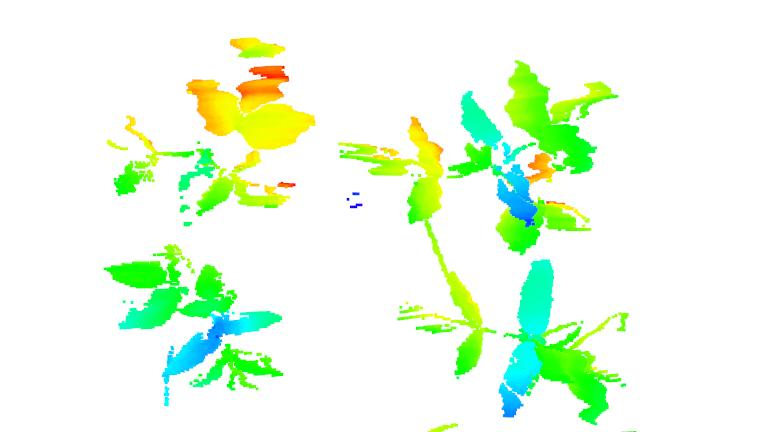mungbean: (339, 57, 621, 255), (404, 266, 636, 422), (108, 34, 309, 212), (105, 247, 294, 397)
